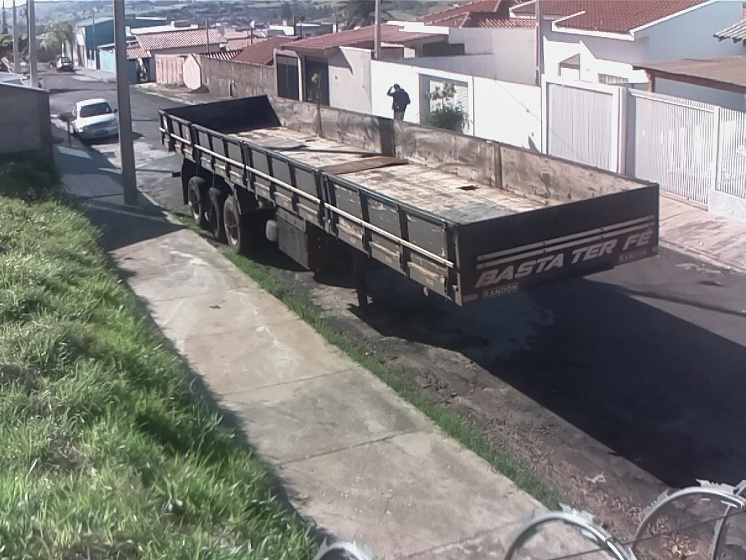person: (386, 81, 410, 123)
